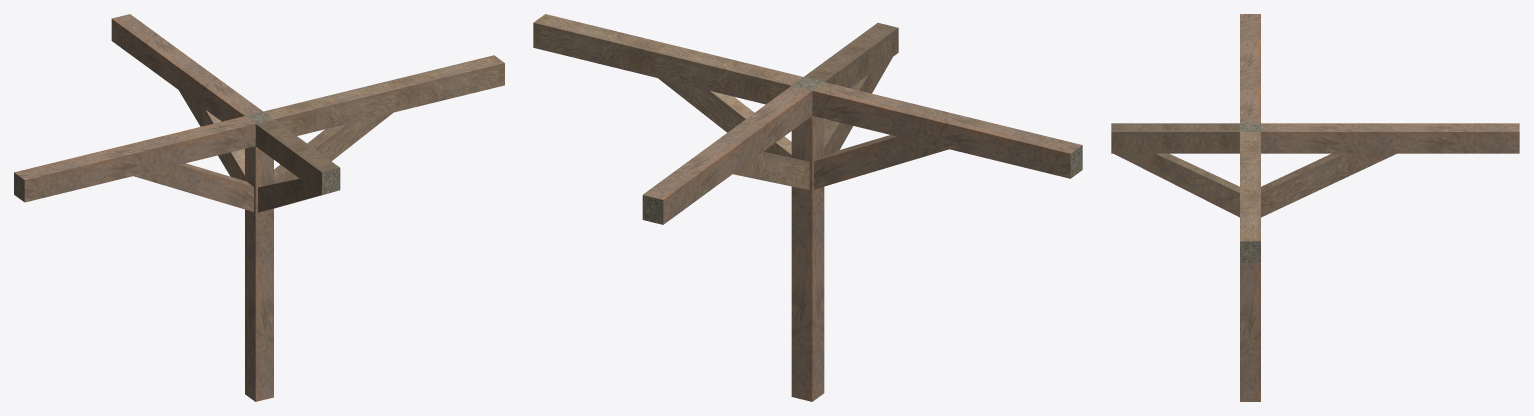
Rendered from WoodCenterScaffoldD.fbx.
3 renders of one model, left to right at view 1: azimuth 30°, elevation 25°; view 2: azimuth 150°, elevation 25°; view 3: azimuth 270°, elevation 25°, orthographic. The views are drawn at different scales.
Visible parts, largest first — view 1: WoodCenterScaffoldD; view 2: WoodCenterScaffoldD; view 3: WoodCenterScaffoldD.
Boxes of the visible parts, x1,y1,x2,y2 form: WoodCenterScaffoldD: [14, 14, 504, 401]; WoodCenterScaffoldD: [533, 14, 1082, 401]; WoodCenterScaffoldD: [1111, 14, 1519, 401].
Bounding box in the file's own units: 778 × 431 × 590.
